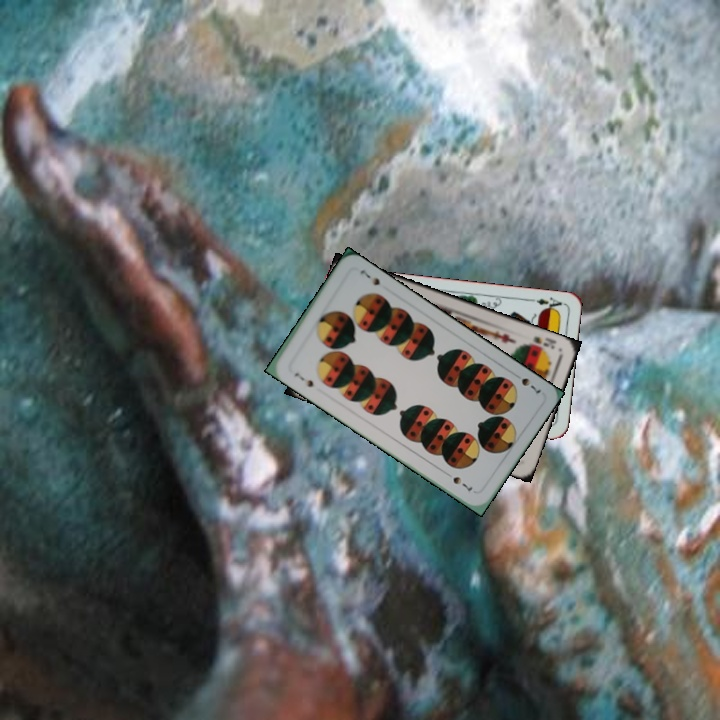EA: (525, 293, 564, 314)
S7: (517, 373, 544, 396), (290, 368, 316, 390)
SK: (529, 332, 559, 351)
